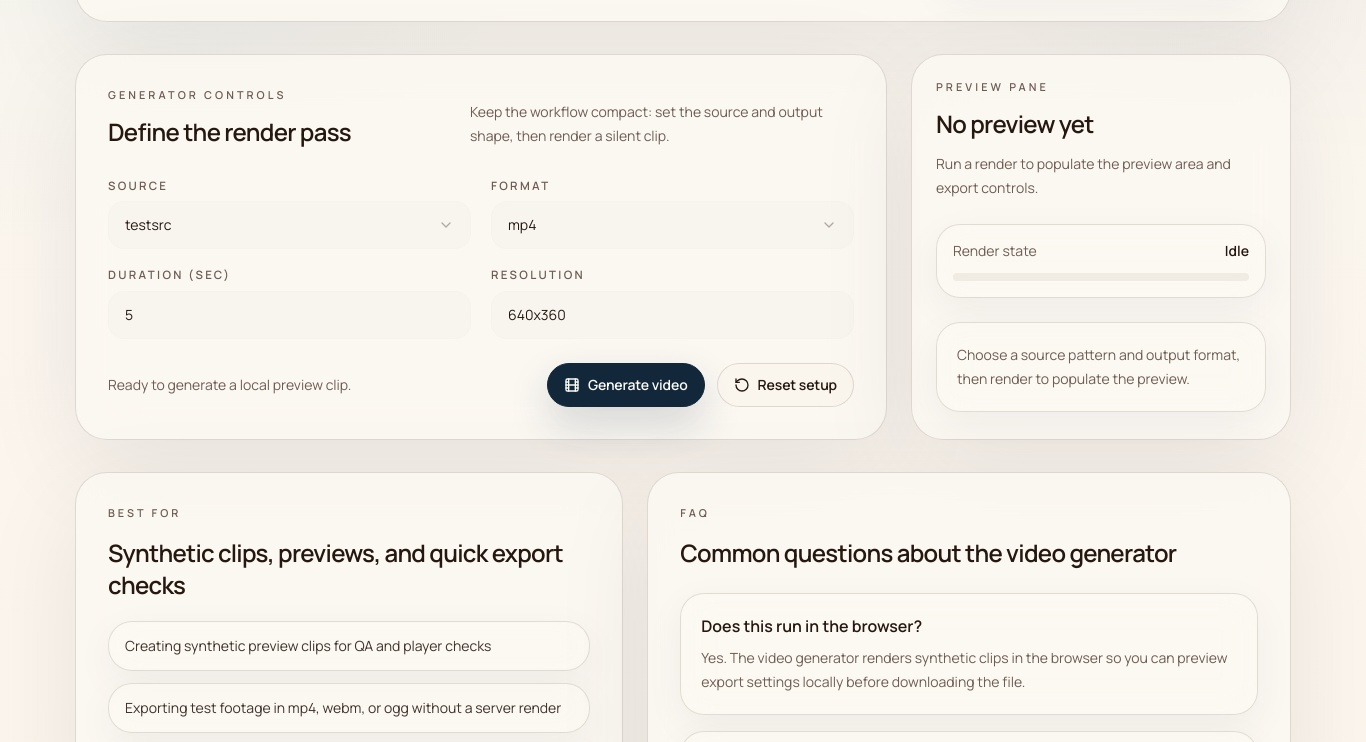
Test: VideoGeneratorPage › renders a preview after a successful default video render
(page scrolled)
Click the button "Generate video".
click(626, 385)  # box [547, 363, 705, 407]
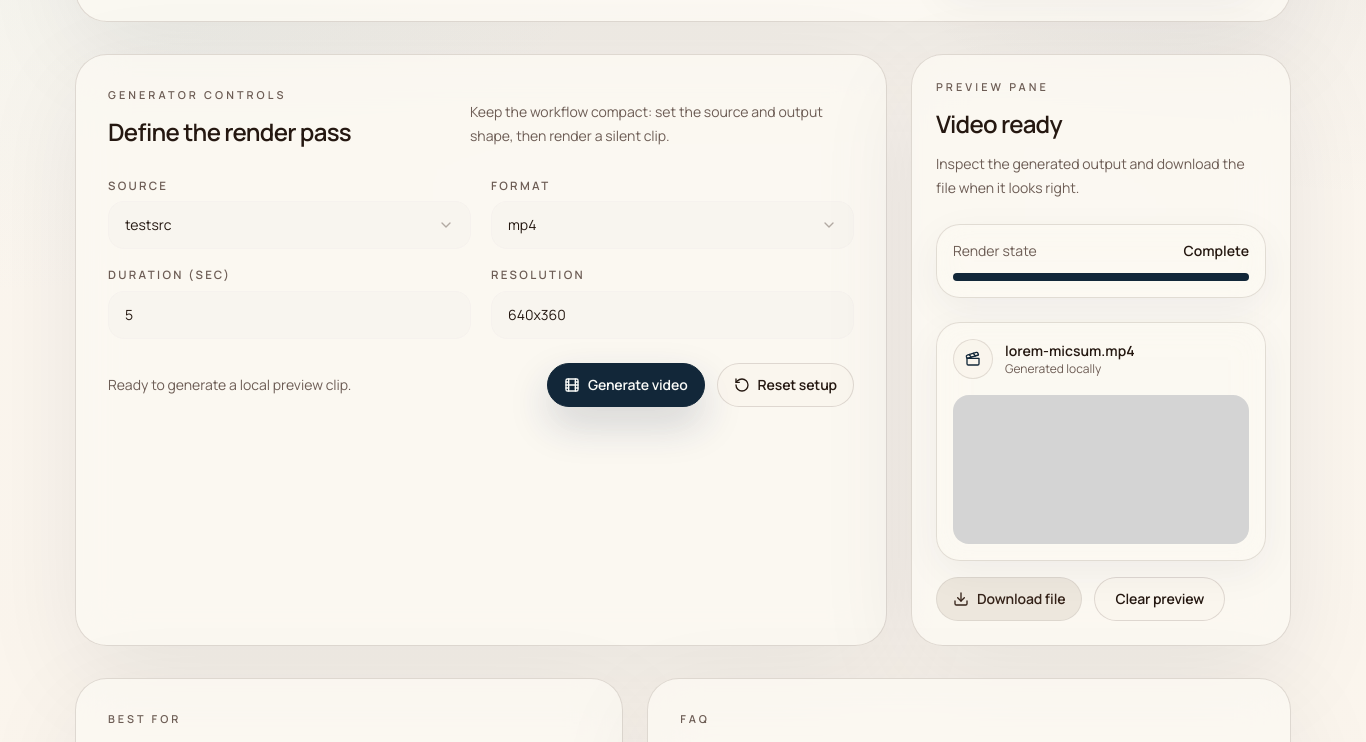
Check: the heading "Video ready" is shown, box [936, 107, 1062, 140]
Check: the text "lorem-micsum.mp4" is shown, box [1005, 341, 1135, 361]
